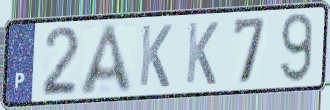2: (41, 25, 82, 99)
7: (230, 16, 270, 86)
9: (277, 11, 316, 85)
A: (77, 22, 136, 98)
K: (183, 20, 221, 88), (137, 23, 174, 90)
